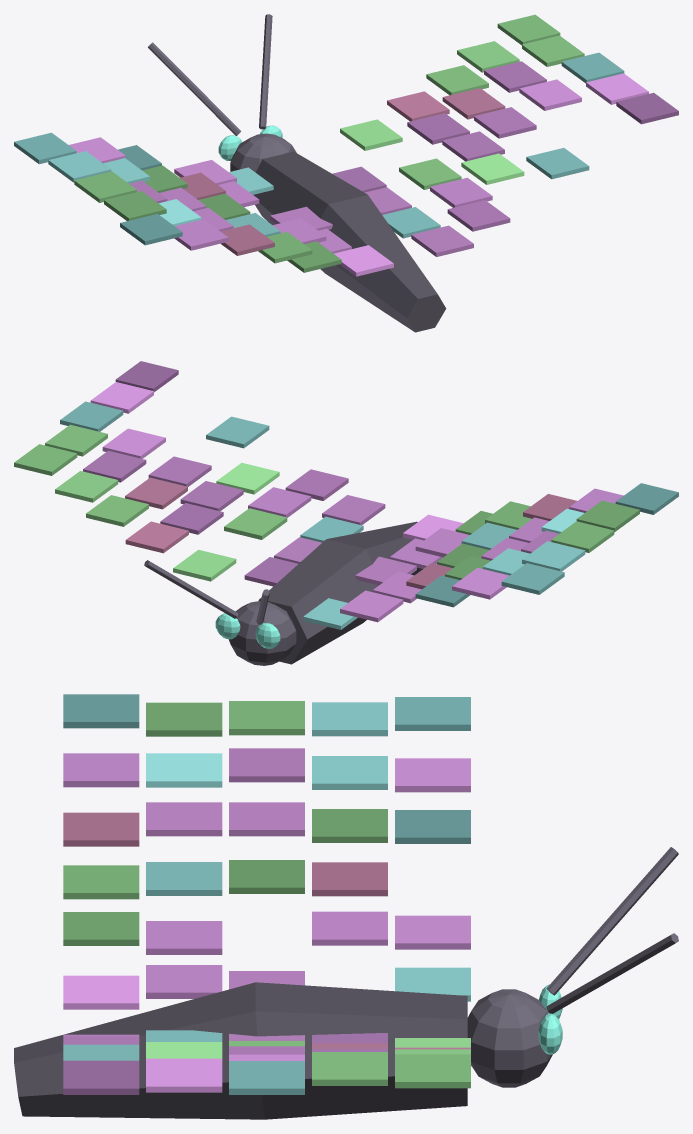
File: GlitchMoth.fbx
3 views of the same model, one above another, from view 1: azimuth 30°, elevation 25°; view 2: azimuth 150°, elevation 25°; view 3: azimuth 270°, elevation 25° (orthographic). The views are drawn at different scales.
Visible parts, largest first — view 1: Enemy_GlitchMoth; view 2: Enemy_GlitchMoth; view 3: Enemy_GlitchMoth.
Part boxes in pixels (x1,y1,x2,y2): Enemy_GlitchMoth: [14, 14, 678, 332]; Enemy_GlitchMoth: [14, 361, 678, 665]; Enemy_GlitchMoth: [14, 694, 678, 1119].
Bounding box in the file's own units: 1.35 × 0.3483 × 0.9619.
